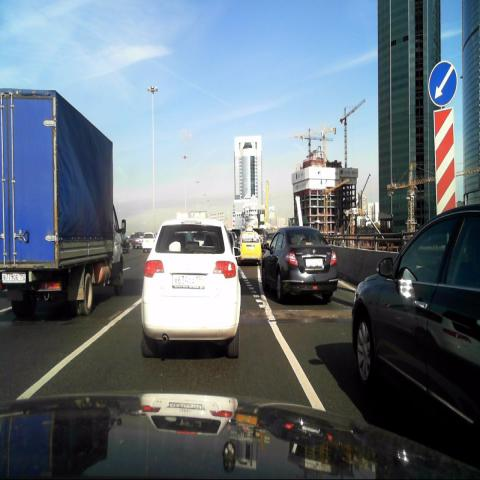4_2_2: (428, 60, 457, 106)
